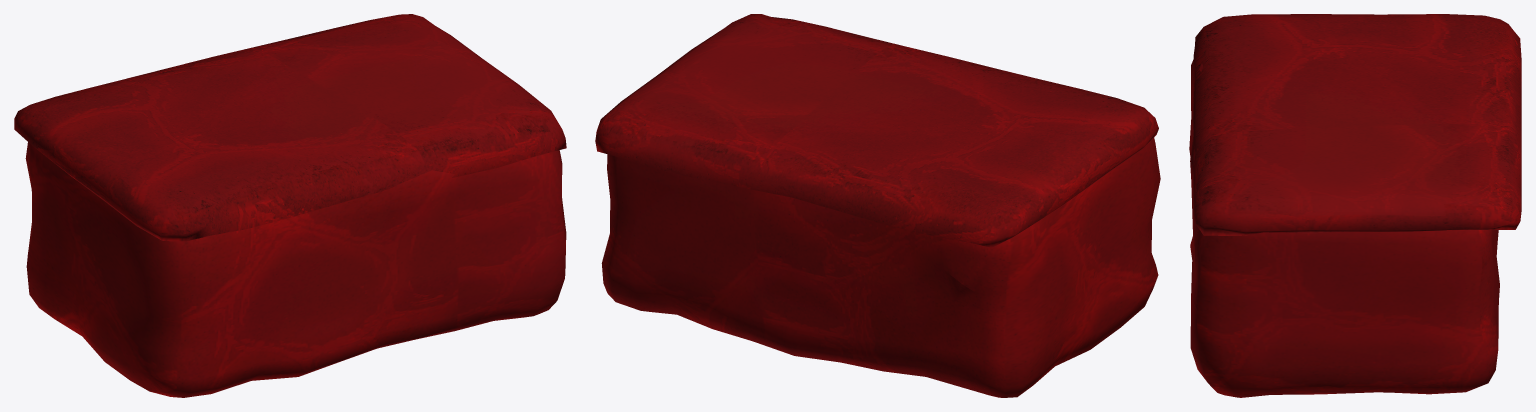
The model's file is tile1.fbx.
3 renders of one model, left to right at view 1: azimuth 30°, elevation 25°; view 2: azimuth 150°, elevation 25°; view 3: azimuth 270°, elevation 25°, orthographic. The views are drawn at different scales.
Parts seen in each view (by area): view 1: PLATAFORMLADOBAIXO1.001, PLATAFORMAMAISBAIXACIMA; view 2: PLATAFORMLADOBAIXO1.001, PLATAFORMAMAISBAIXACIMA; view 3: PLATAFORMAMAISBAIXACIMA, PLATAFORMLADOBAIXO1.001.
Boxes of the visible parts, bbox=[...] form: PLATAFORMLADOBAIXO1.001: bbox=[25, 142, 566, 397]; PLATAFORMAMAISBAIXACIMA: bbox=[14, 14, 566, 241]; PLATAFORMLADOBAIXO1.001: bbox=[601, 137, 1160, 397]; PLATAFORMAMAISBAIXACIMA: bbox=[595, 14, 1158, 247]; PLATAFORMAMAISBAIXACIMA: bbox=[1193, 14, 1521, 235]; PLATAFORMLADOBAIXO1.001: bbox=[1189, 59, 1499, 397].
Size of the model in its own units: 494 by 231 by 341.
